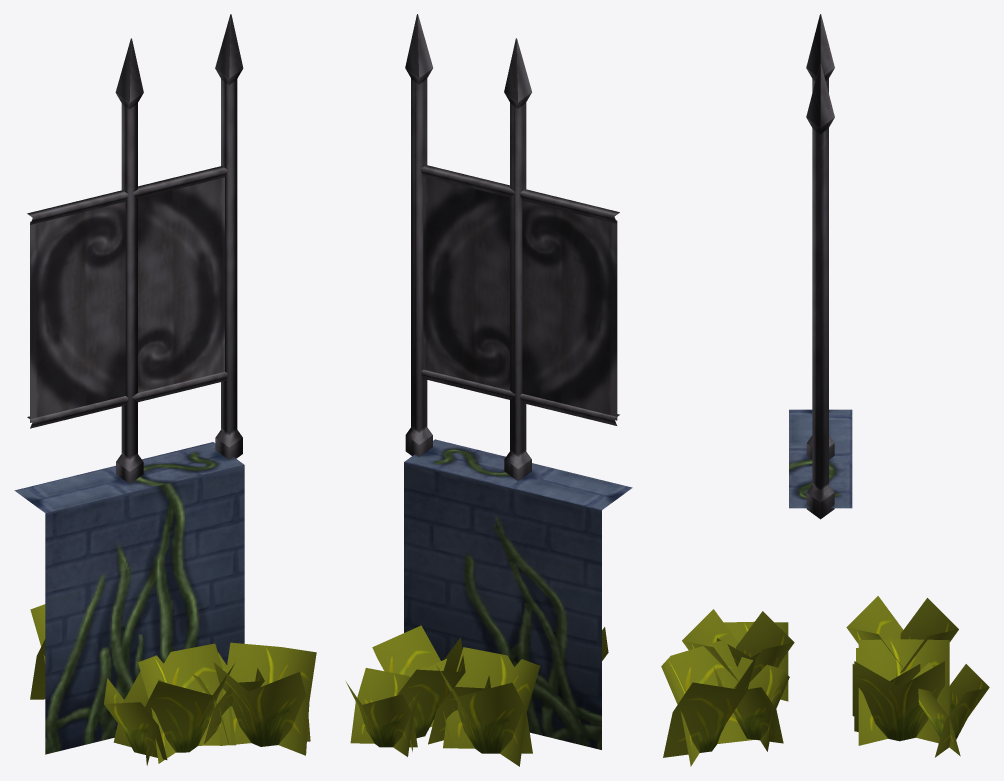
The model's file is a_SWTwall03.glb.
The picture shows the model from 3 angles, left to right: view 1: azimuth 30°, elevation 25°; view 2: azimuth 150°, elevation 25°; view 3: azimuth 270°, elevation 25°; orthographic projection. The views are drawn at different scales.
Visible parts, largest first — view 1: a_SWTwall03; view 2: a_SWTwall03; view 3: a_SWTwall03.
Boxes of the visible parts, bbox=[...] form: a_SWTwall03: bbox=[14, 14, 316, 765]; a_SWTwall03: bbox=[346, 14, 632, 766]; a_SWTwall03: bbox=[661, 14, 989, 766].
Size of the model in its own units: 1.13 by 3.29 by 1.41.
Materials: 3 (3 with a texture image).
